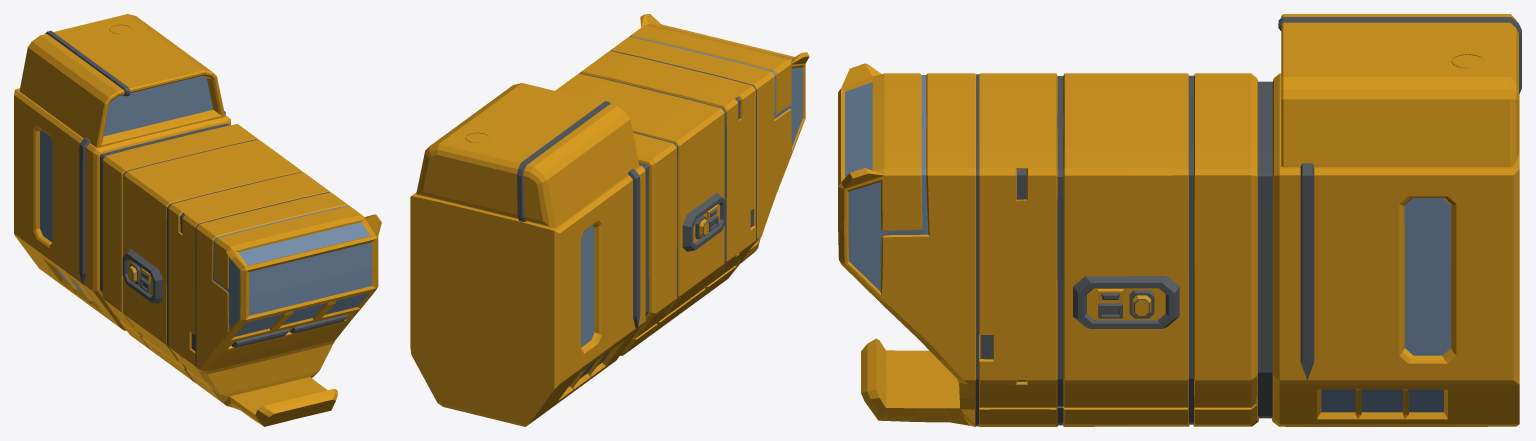
File: Dropship_02_Body_Yellow.fbx
The picture shows the model from 3 angles, left to right: view 1: azimuth 30°, elevation 25°; view 2: azimuth 150°, elevation 25°; view 3: azimuth 270°, elevation 25°; orthographic projection. The views are drawn at different scales.
Parts seen in each view (by area): view 1: Dropship_02_Body_Yellow; view 2: Dropship_02_Body_Yellow; view 3: Dropship_02_Body_Yellow.
Part boxes in pixels (left/top/right/bottom): Dropship_02_Body_Yellow: left=14, top=14, right=381, bottom=426; Dropship_02_Body_Yellow: left=410, top=14, right=809, bottom=426; Dropship_02_Body_Yellow: left=838, top=14, right=1521, bottom=426.
Size of the model in its own units: 495 by 734 by 1268.
3 materials, 3 textured.
